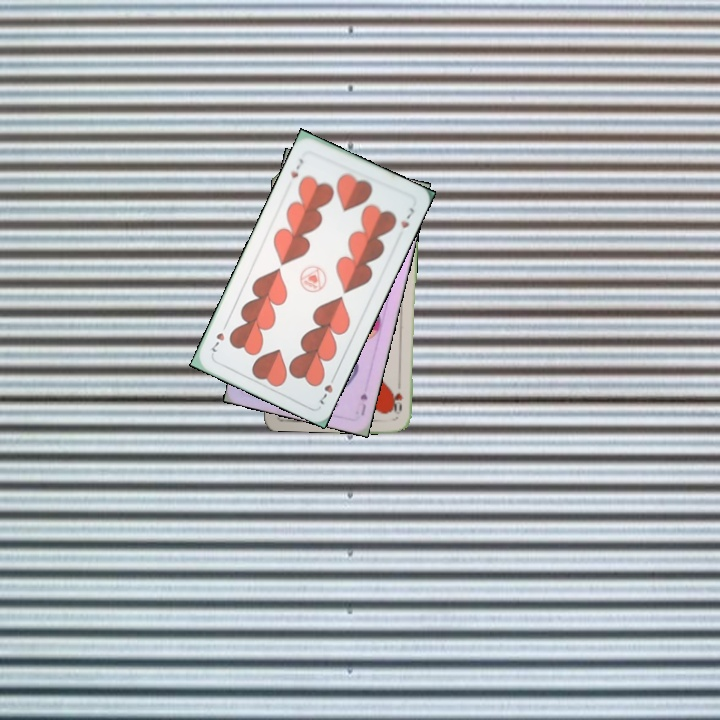H7: (315, 370, 339, 407), (286, 154, 306, 181)
HO: (388, 378, 405, 414)
SU: (356, 389, 370, 418)
